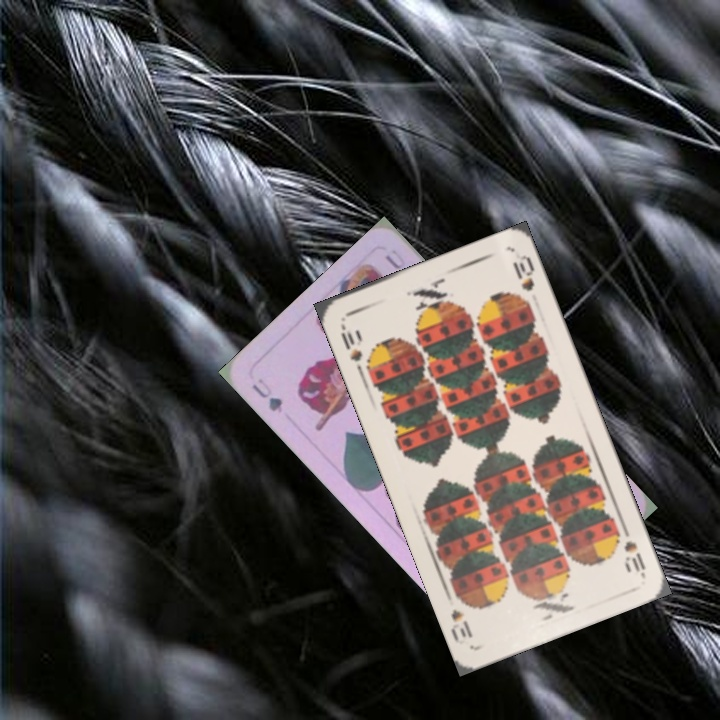GU: (248, 374, 286, 416)
S10: (617, 520, 648, 577), (336, 319, 365, 365)
